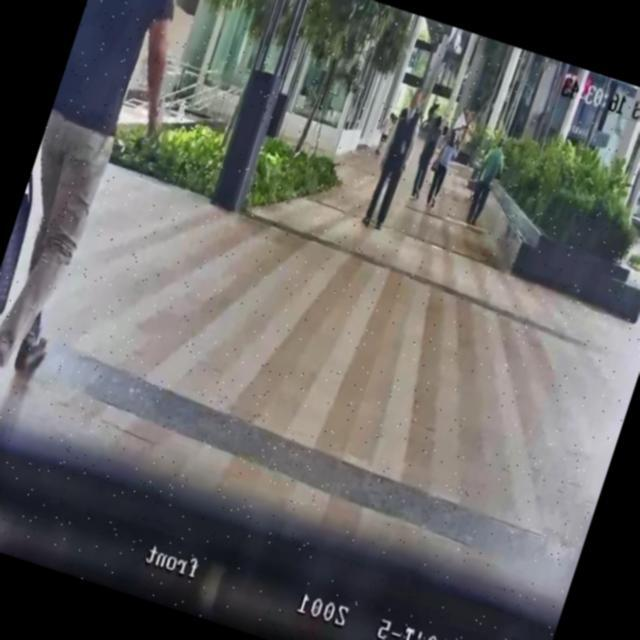person: (0, 0, 218, 406), (358, 84, 432, 234), (462, 135, 512, 231), (405, 110, 448, 202), (420, 125, 464, 211), (374, 110, 398, 156)
